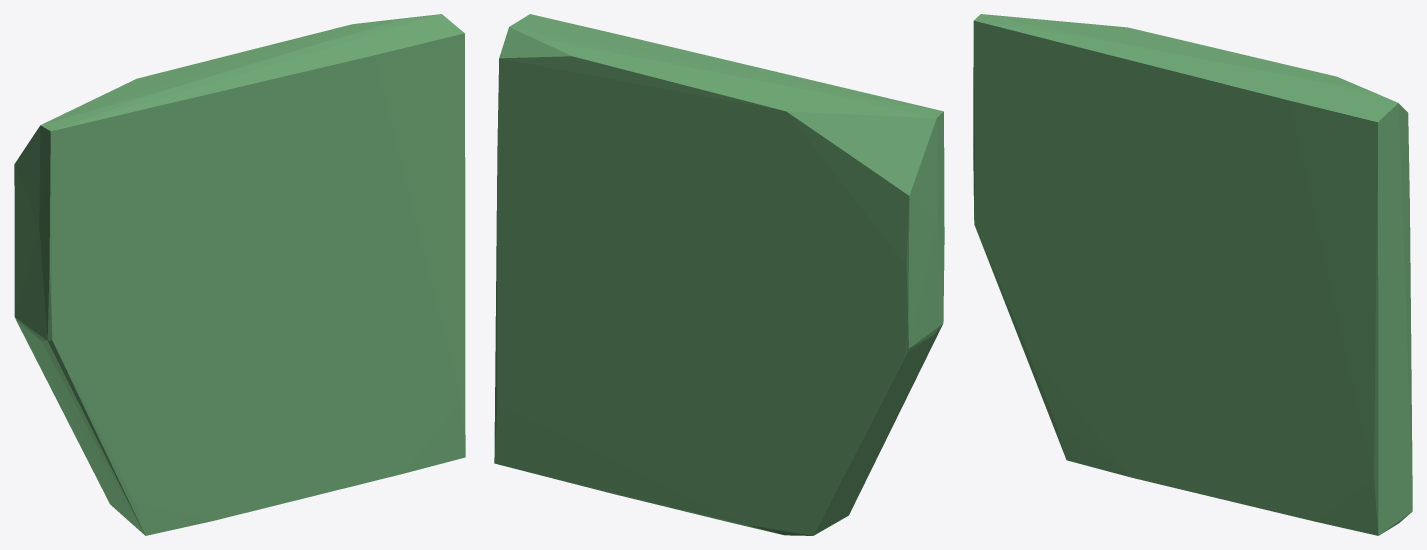
File: consumable_cabin_filter_carbon_a01.glb
3 views of the same model, side by side, from view 1: azimuth 30°, elevation 25°; view 2: azimuth 150°, elevation 25°; view 3: azimuth 330°, elevation 25° (orthographic). The views are drawn at different scales.
Visible parts, largest first — view 1: geometry_0; view 2: geometry_0; view 3: geometry_0.
Part boxes in pixels (box(x1,y1,x2,y2)): geometry_0: box(14, 14, 465, 535); geometry_0: box(494, 14, 944, 535); geometry_0: box(973, 14, 1412, 535).
Size of the model in its own units: 0.4798 by 0.4745 by 0.0721.
